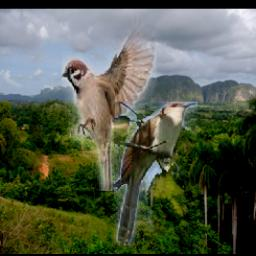Cuckoo: (114, 102, 197, 245)
Sparrow: (61, 11, 156, 192)
